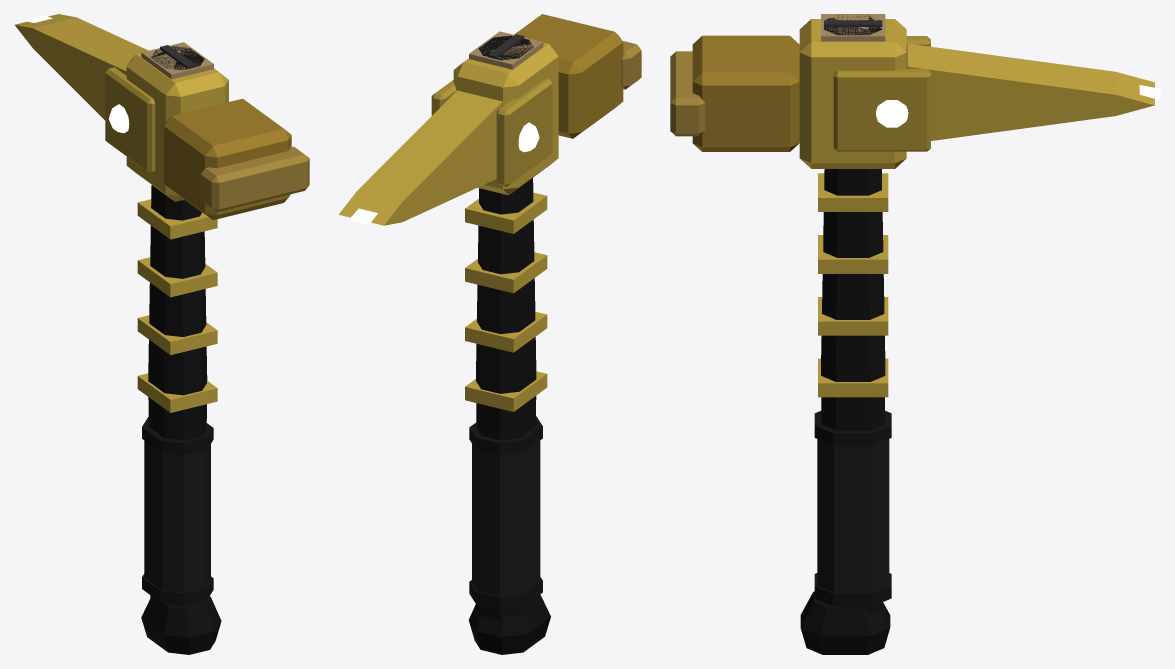
The model's file is LuxPickaxe.glb.
The picture shows the model from 3 angles, left to right: view 1: azimuth 30°, elevation 25°; view 2: azimuth 150°, elevation 25°; view 3: azimuth 270°, elevation 25°; orthographic projection. The views are drawn at different scales.
Parts seen in each view (by area): view 1: Handle, Head, Glow; view 2: Handle, Head, Glow; view 3: Head, Handle, Glow.
Part boxes in pixels (box(x1,y1,x2,y2)): Handle: box(137, 42, 221, 654); Head: box(14, 14, 309, 219); Glow: box(24, 15, 129, 133); Handle: box(465, 31, 550, 654); Head: box(339, 14, 641, 225); Glow: box(349, 122, 539, 224); Head: box(670, 19, 1154, 168); Handle: box(800, 14, 891, 654); Glow: box(876, 85, 1160, 127).
Size of the model in its own units: 0.62 by 3.51 by 2.52.
